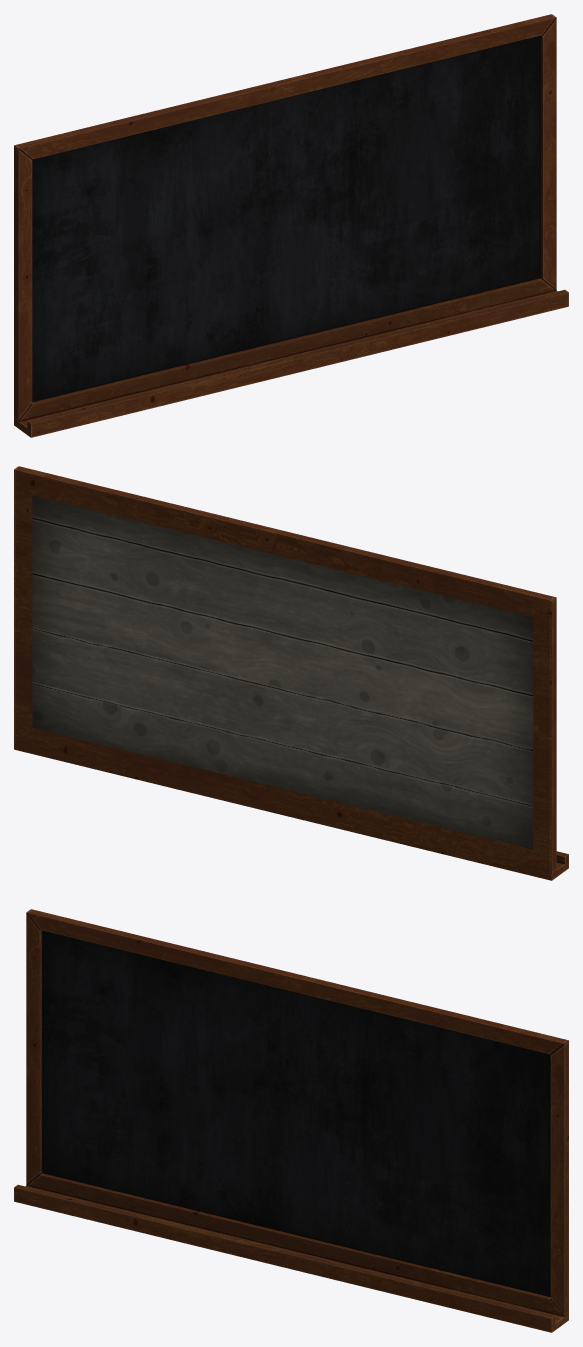
The model's file is DS_WizLab_Clut_ChalkBoard.fbx.
3 views of the same model, one above another, from view 1: azimuth 30°, elevation 25°; view 2: azimuth 150°, elevation 25°; view 3: azimuth 330°, elevation 25° (orthographic).
Visible parts, largest first — view 1: DS_WizLab_Clut_ChalkBoard; view 2: DS_WizLab_Clut_ChalkBoard; view 3: DS_WizLab_Clut_ChalkBoard.
Boxes of the visible parts, x1,y1,x2,y2 form: DS_WizLab_Clut_ChalkBoard: (14,14,568,437); DS_WizLab_Clut_ChalkBoard: (14,466,568,880); DS_WizLab_Clut_ChalkBoard: (14,909,568,1332).
Bounding box in the file's own units: 199 × 99 × 10.95.
Materials: 1 (1 with a texture image).
